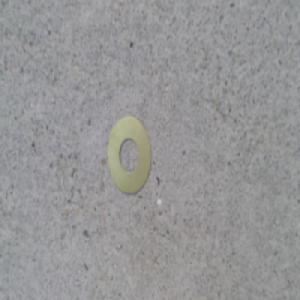Washer: (105, 112, 152, 192)
